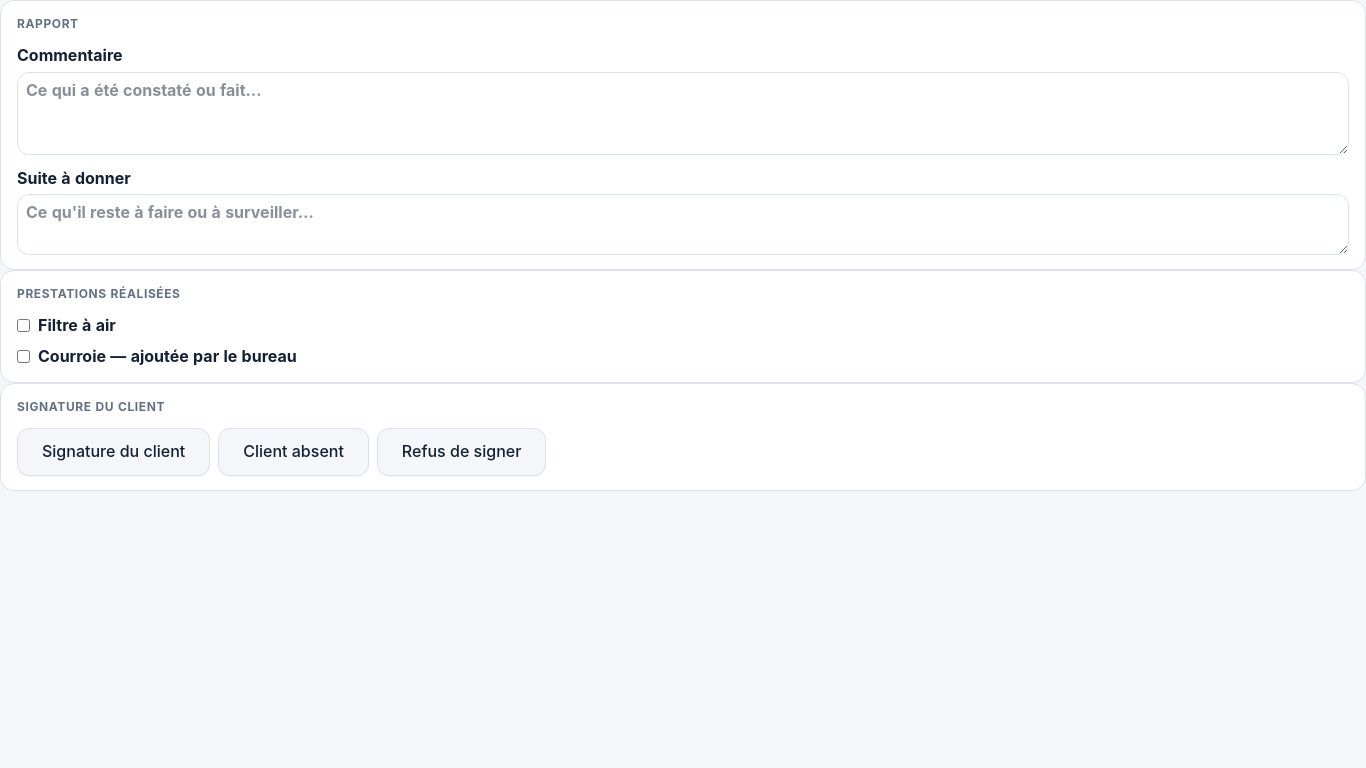
Scenario: les prestations mises en FILE portent une DIFFÉRENCE, jamais l'ensemble (point 2, 9F4H6A-COQUILLE-ANCIENNE-COPIE) › une prestation de la base connue, absente du catalogue affiché (ajoutée par un collègue), n'apparaît ni en ajout ni en retrait
Click the checkbox labelled "Filtre à air".
click(24, 326)  # box [17, 319, 30, 332]
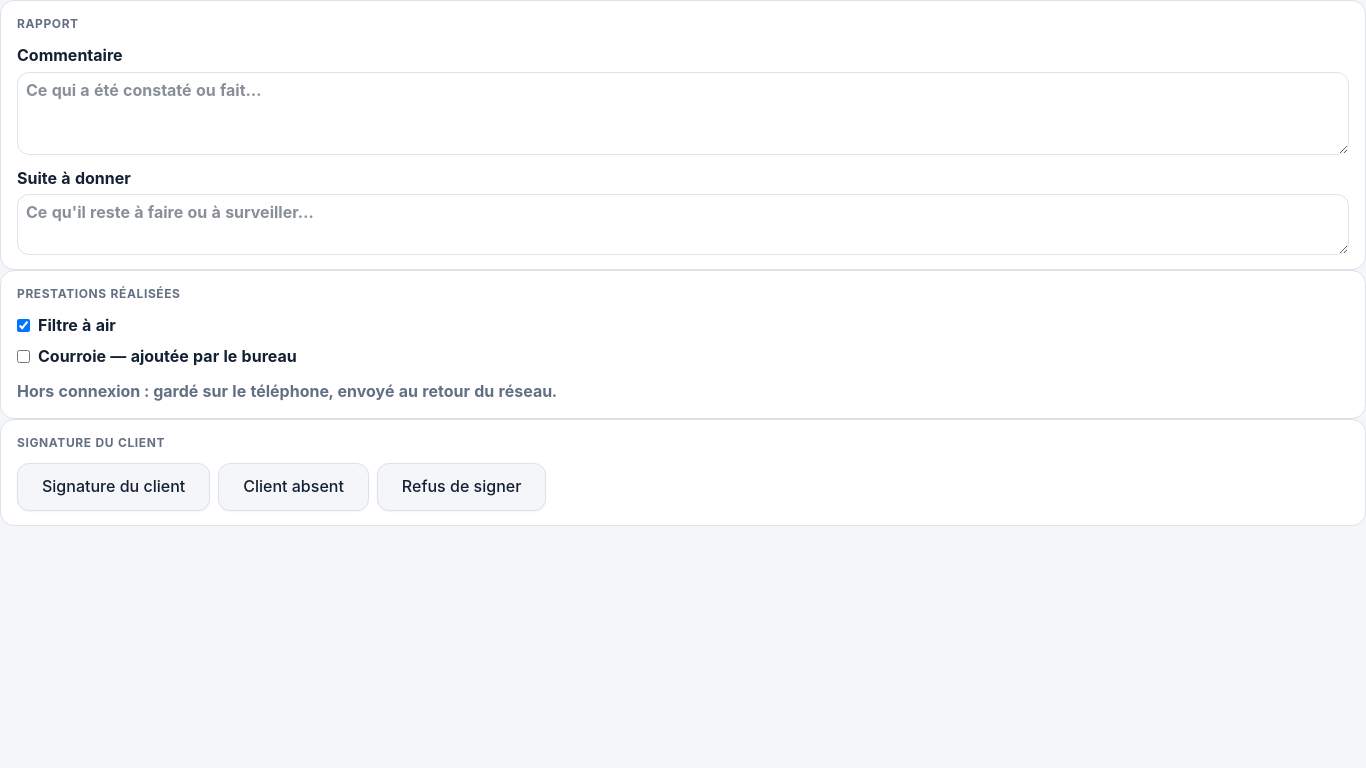
expect the text "Hors connexion : gardé sur le téléphone, envoyé au retour du réseau." is shown: met, box [17, 382, 556, 402]
